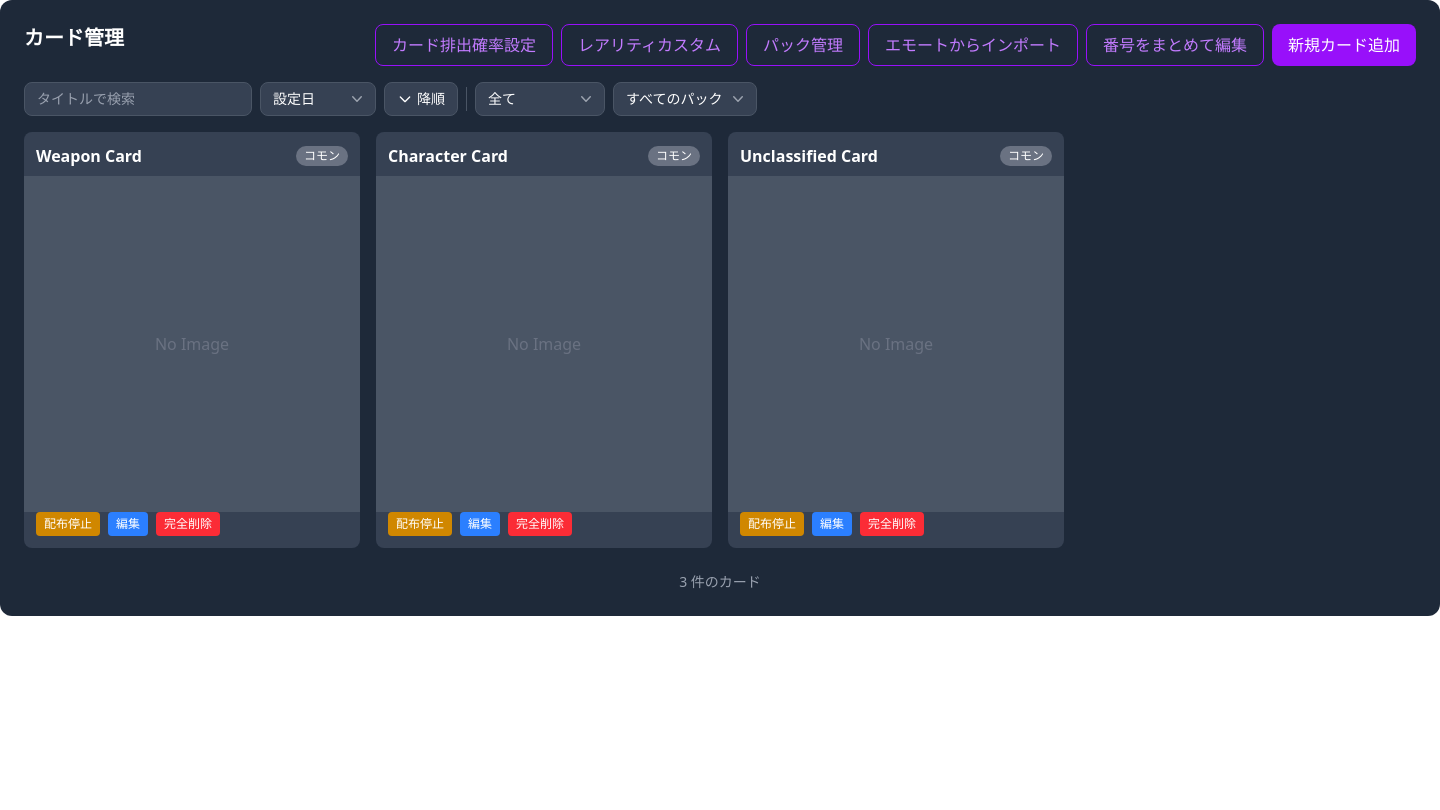
Test: CardManager pack filter › filters to a specific catalog pack by exact collection_name match
Select "characters" in the dropdown named "カードパックで絞り込む" at (685, 99), box 613,82 -> 757,116
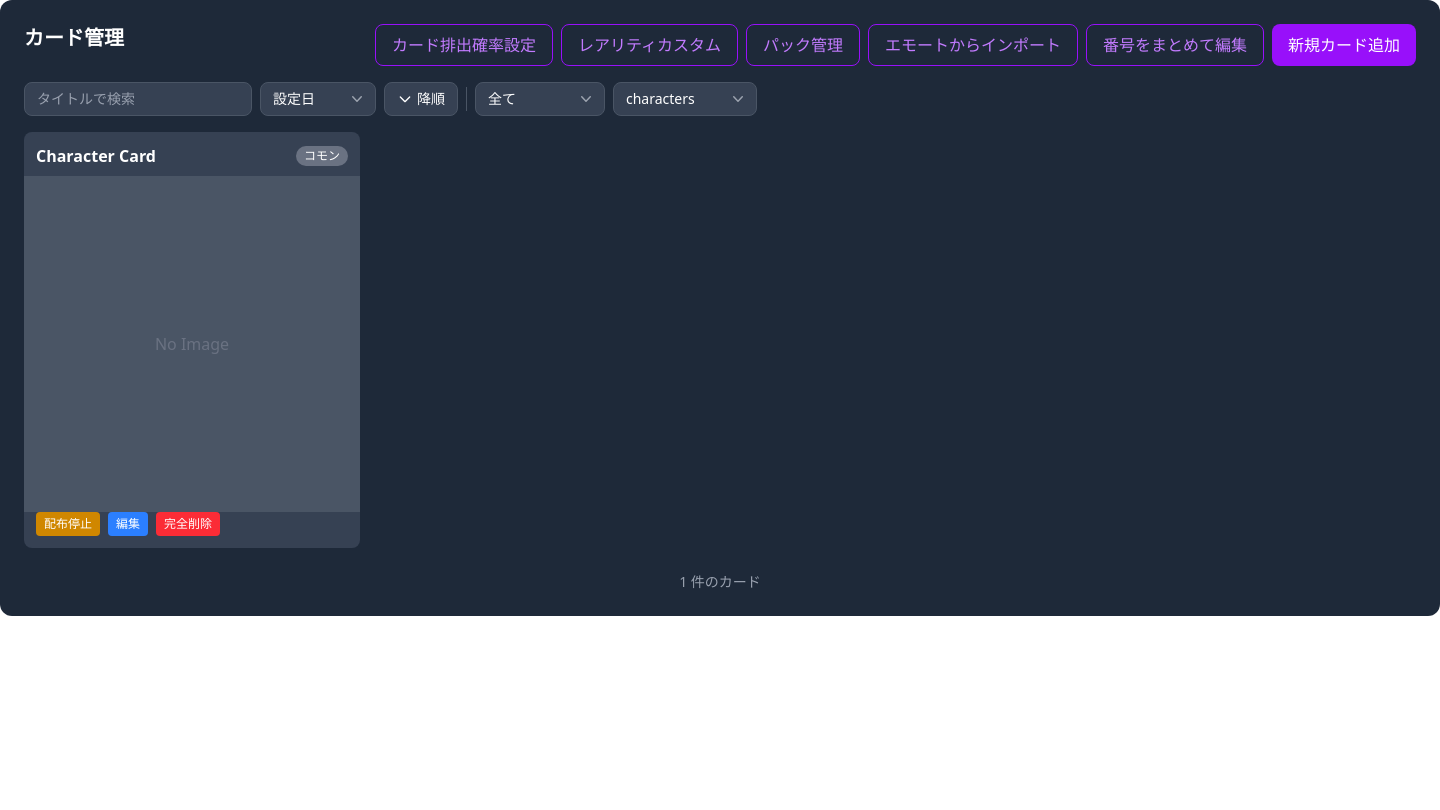
expect the heading "Character Card" is shown: met, box 36,144 -> 156,168
expect the heading "Weapon Card" is gone: met
expect the heading "Unclassified Card" is gone: met
